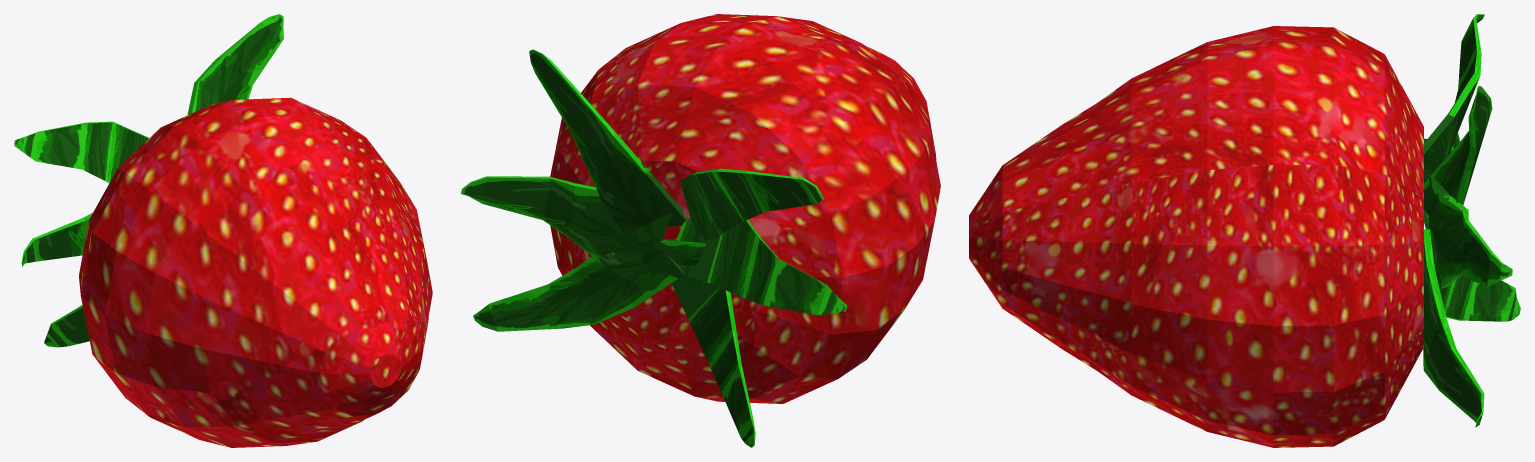
The model's file is starwberry.fbx.
3 views of the same model, side by side, from view 1: azimuth 30°, elevation 25°; view 2: azimuth 150°, elevation 25°; view 3: azimuth 270°, elevation 25° (orthographic). The views are drawn at different scales.
Parts seen in each view (by area): view 1: Sphere; view 2: Sphere; view 3: Sphere.
Boxes of the visible parts, x1,y1,x2,y2 form: Sphere: [14, 14, 432, 447]; Sphere: [461, 14, 940, 447]; Sphere: [969, 14, 1520, 447].
Bounding box in the file's own units: 573 × 567 × 708.
1 material, 1 textured.
